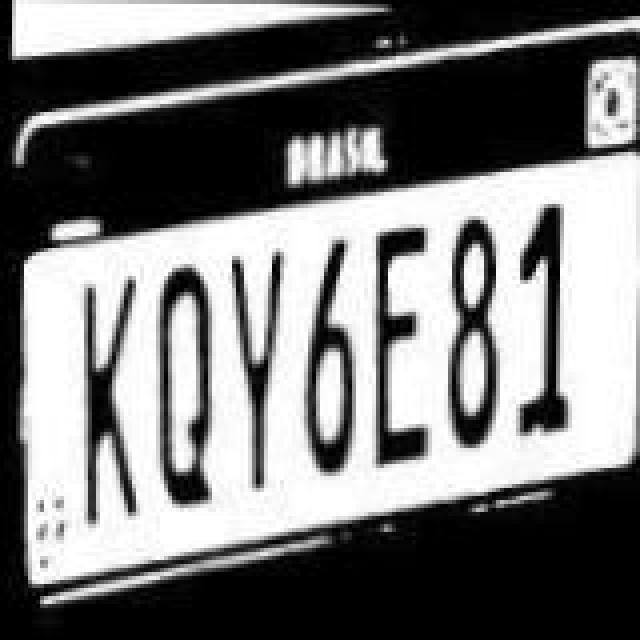1: (502, 184, 578, 464)
6: (288, 218, 356, 498)
8: (430, 194, 506, 478)
E: (364, 206, 436, 490)
K: (66, 242, 146, 526)
Q: (148, 242, 224, 522)
Y: (214, 232, 286, 512)
